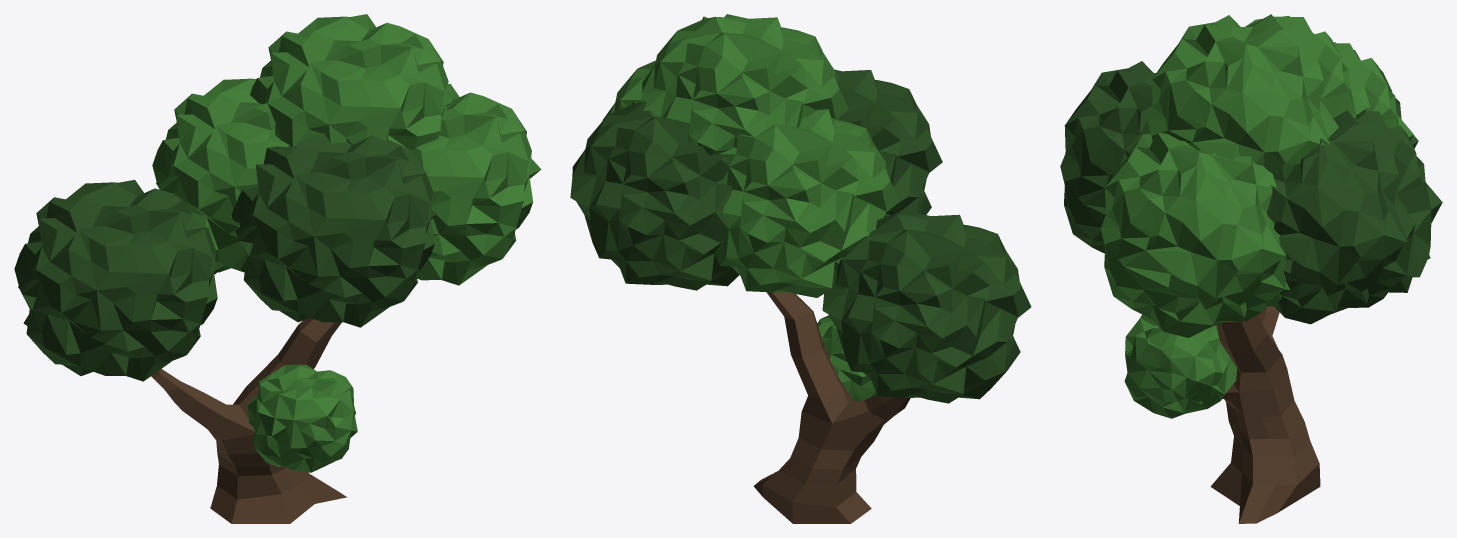
Rendered from tree 5.fbx.
3 renders of one model, left to right at view 1: azimuth 30°, elevation 25°; view 2: azimuth 150°, elevation 25°; view 3: azimuth 270°, elevation 25°, orthographic. The views are drawn at different scales.
Visible parts, largest first — view 1: LowPoly Tree .013; view 2: LowPoly Tree .013; view 3: LowPoly Tree .013.
Boxes of the visible parts, x1,y1,x2,y2 form: LowPoly Tree .013: (14,14,541,523); LowPoly Tree .013: (570,14,1031,523); LowPoly Tree .013: (1060,14,1442,523).
Bounding box in the file's own units: 226 × 221 × 152.
